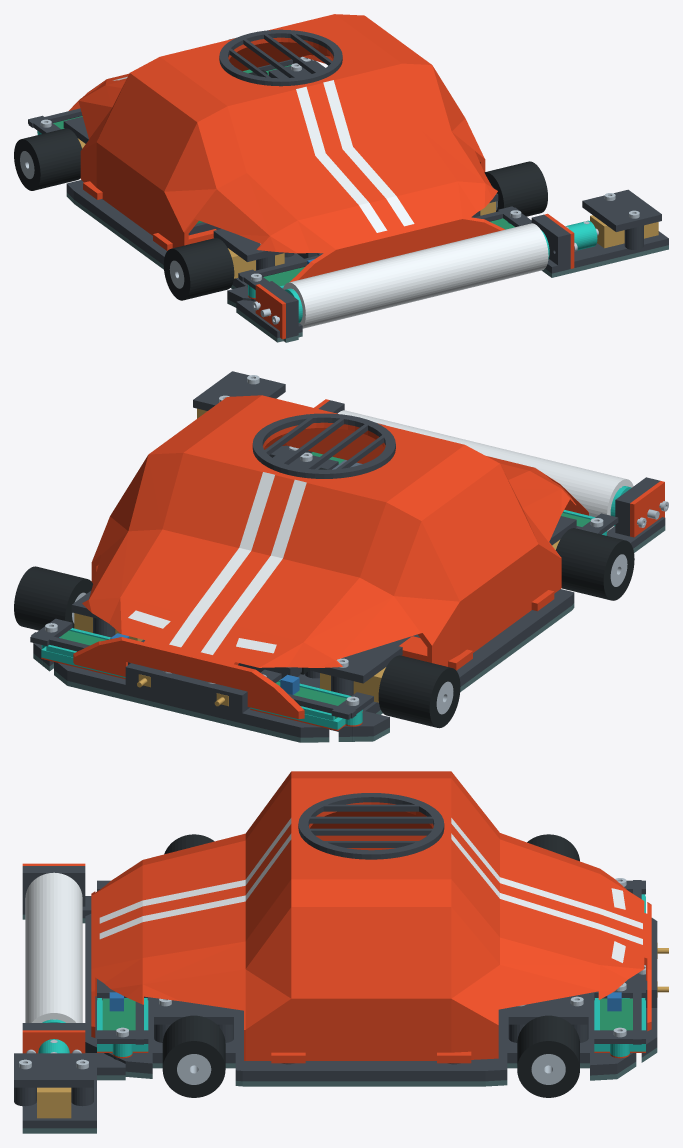
Rendered from Vacuum_Robot_Blockout.glb.
3 views of the same model, one above another, from view 1: azimuth 30°, elevation 25°; view 2: azimuth 150°, elevation 25°; view 3: azimuth 270°, elevation 25° (orthographic). The views are drawn at different scales.
Parts seen in each view (by area): view 1: Sports_Car_Service_Cover, Microfiber_Roller, Chassis, Exhaust_Grille, Wheel_Tire_Left_Rear, Wheel_Tire_Left_Front, Wheel_Tire_Right_Rear, Wiper_Motor_Clamp, Racing_Stripe_1_-95, Racing_Stripe_-1_-95, Full_Bottom_Sponge, Motor_Clamp_Left_Rear (+6 smaller); view 2: Sports_Car_Service_Cover, Chassis, Exhaust_Grille, Wheel_Tire_Left_Front, Microfiber_Roller, Wheel_Tire_Left_Rear, Wheel_Tire_Right_Front, Full_Bottom_Sponge, Charging_Contact_Block, Racing_Stripe_-1_28, Racing_Stripe_1_28, Wiper_Motor_Clamp (+7 smaller); view 3: Sports_Car_Service_Cover, Chassis, Microfiber_Roller, Exhaust_Grille, Wheel_Tire_Right_Rear, Wheel_Tire_Right_Front, Full_Bottom_Sponge, Wiper_Motor_Clamp, Motor_Clamp_Right_Front, Motor_Clamp_Right_Rear, Sensor_Edge_Clamp_Right_Front, Racing_Stripe_1_-95 (+14 smaller).
Boxes of the visible parts, box(x1,y1,x2,y2) form: Sports_Car_Service_Cover: box(69, 14, 504, 281); Microfiber_Roller: box(283, 223, 548, 328); Chassis: box(66, 180, 668, 338); Exhaust_Grille: box(219, 29, 342, 86); Wheel_Tire_Left_Rear: box(163, 238, 234, 300); Wheel_Tire_Left_Front: box(14, 128, 81, 190); Wheel_Tire_Right_Rear: box(484, 161, 547, 216); Wiper_Motor_Clamp: box(582, 189, 661, 231); Racing_Stripe_1_-95: box(323, 80, 414, 226); Racing_Stripe_-1_-95: box(296, 86, 387, 232); Full_Bottom_Sponge: box(66, 192, 668, 342); Motor_Clamp_Left_Rear: box(213, 229, 285, 261); Sports_Car_Service_Cover: box(73, 395, 588, 719); Chassis: box(33, 400, 665, 737); Exhaust_Grille: box(252, 413, 395, 478); Wheel_Tire_Left_Front: box(378, 655, 460, 728); Microfiber_Roller: box(338, 410, 633, 531); Wheel_Tire_Left_Rear: box(555, 528, 634, 600); Wheel_Tire_Right_Front: box(14, 566, 92, 630); Full_Bottom_Sponge: box(33, 525, 665, 742); Charging_Contact_Block: box(125, 663, 249, 712); Racing_Stripe_-1_28: box(201, 479, 306, 654); Racing_Stripe_1_28: box(169, 472, 274, 647); Wiper_Motor_Clamp: box(193, 371, 285, 410); Sports_Car_Service_Cover: box(91, 771, 651, 1063); Chassis: box(14, 866, 657, 1128); Microfiber_Roller: box(25, 872, 82, 1022); Exhaust_Grille: box(298, 793, 444, 859); Wheel_Tire_Right_Rear: box(162, 1015, 225, 1097); Wheel_Tire_Right_Front: box(517, 1015, 579, 1097); Full_Bottom_Sponge: box(22, 914, 657, 1133); Wiper_Motor_Clamp: box(14, 1053, 93, 1087); Motor_Clamp_Right_Front: box(508, 993, 588, 1024); Motor_Clamp_Right_Rear: box(154, 998, 233, 1024); Sensor_Edge_Clamp_Right_Front: box(594, 984, 645, 1044); Racing_Stripe_1_-95: box(99, 833, 291, 939).
Size of what is drawn, in the model's own units: 0.2005 by 0.066 by 0.2291.
